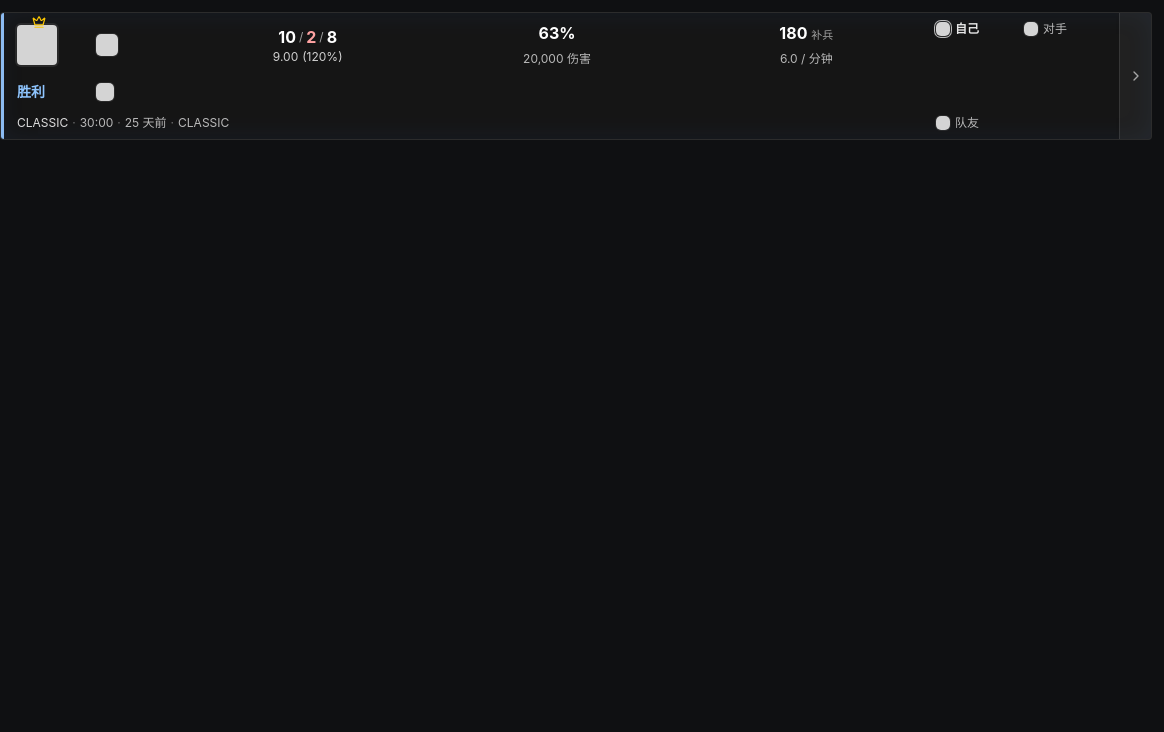
LeagueDetailedMatchCard › loads timeline details only when that tab is opened
What coordinates should you click on to do the following:
click the button named "展开战绩详情"
I would click on:
 (1135, 76)
Its box is [1119,13,1151,139].
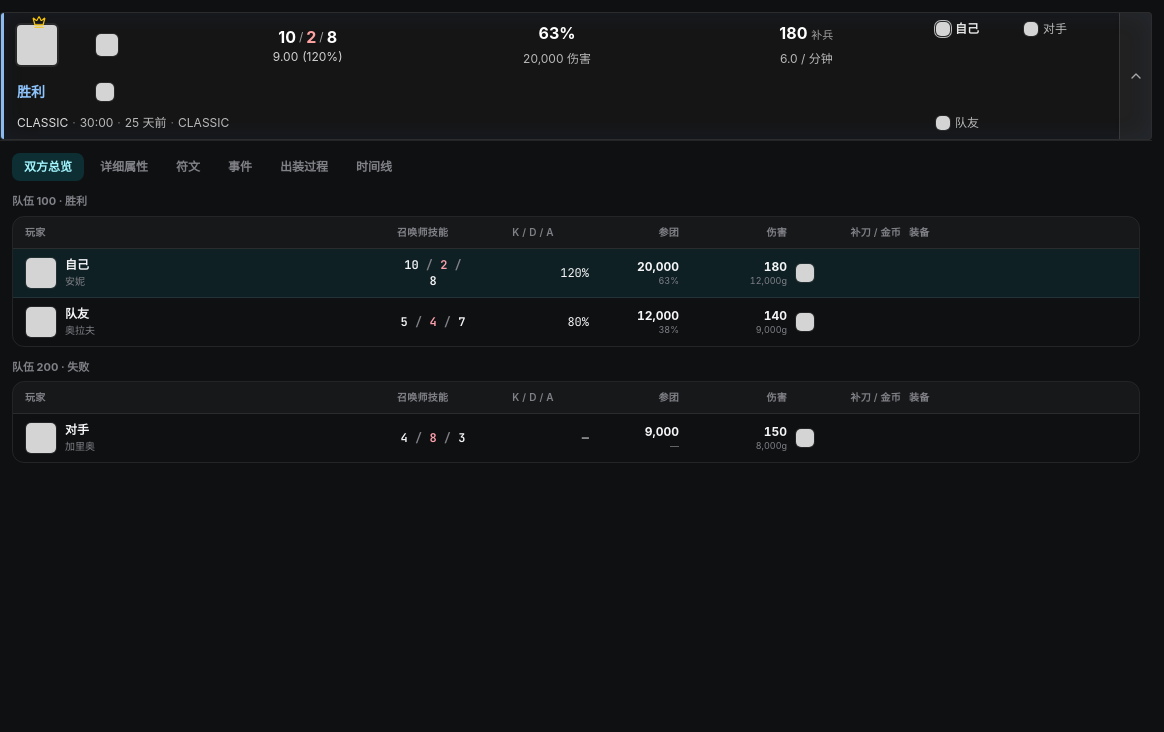
What coordinates should you click on to do the following:
click the button "时间线"
I would click on:
 (374, 167)
Its box is [344,153,404,181].
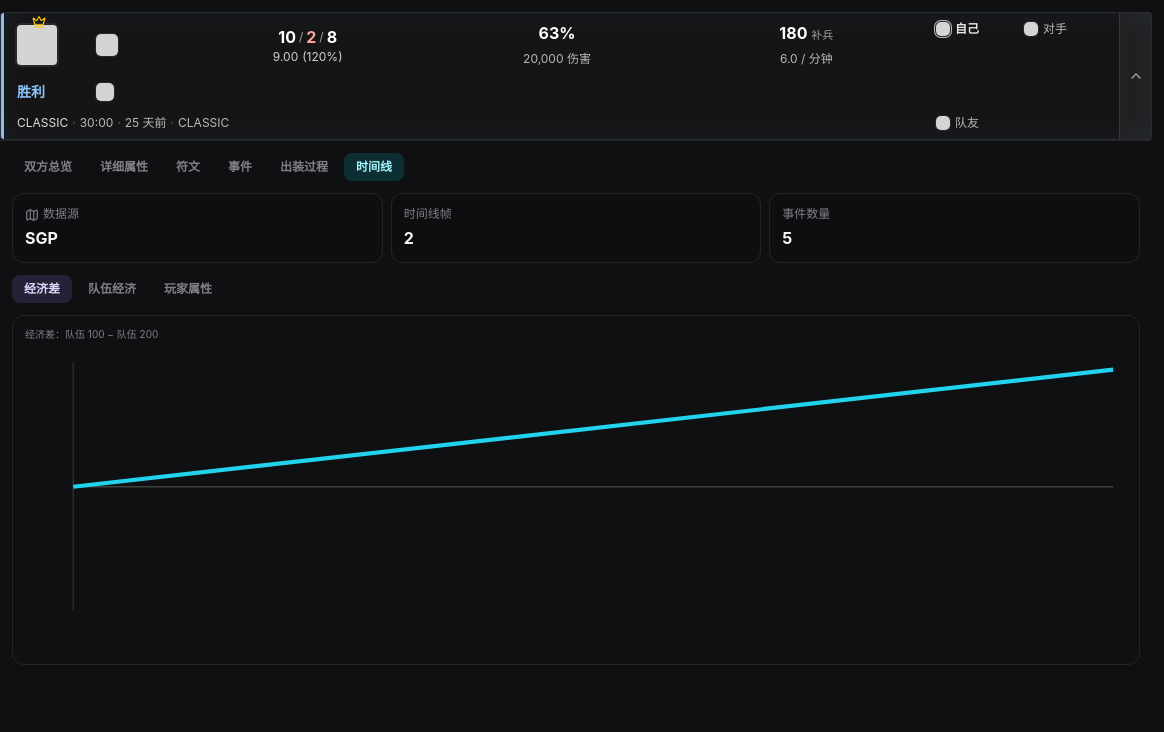
Check: the button "经济差" is shown, box [12,275,72,303]
